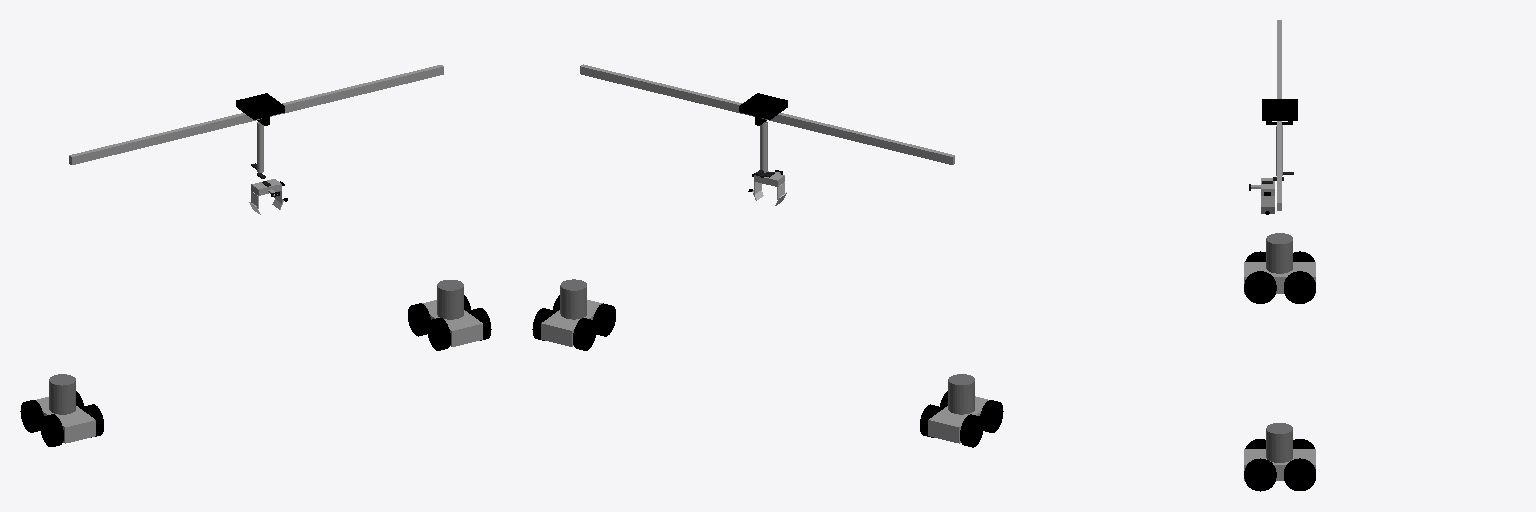
--- Facts derived from the render (not from the file) ---
The picture shows the robot from 3 angles, left to right: view 1: azimuth 30°, elevation 25°; view 2: azimuth 150°, elevation 25°; view 3: azimuth 270°, elevation 25°; orthographic projection.
Model bot with 51 links and 50 joints (1 revolute, 9 continuous, 6 prismatic, 34 fixed), rooted at Untitled.052, posed all joints at 0.
Visible links, largest first — view 1: Untitled.052, Untitled.004, Untitled.009, Untitled.046, Untitled.045, Untitled.026, Untitled.008, Untitled.017, Untitled.007, Untitled.011; view 2: Untitled.052, Untitled.004, Untitled.009, Untitled.046, Untitled.045, Untitled.026, Untitled.007, Untitled.011, Untitled.008, Untitled.017; view 3: Untitled.046, Untitled.045, Untitled.005, Untitled.015, Untitled.006, Untitled.013, Untitled.052, Untitled.026, Untitled.004, Untitled.009.
Boxes of the visible links, box(x1,y1,x2,y2) form: Untitled.052: box(69, 65, 443, 164); Untitled.004: box(36, 397, 95, 443); Untitled.009: box(422, 300, 482, 346); Untitled.046: box(49, 374, 75, 414); Untitled.045: box(437, 280, 463, 319); Untitled.026: box(236, 93, 284, 119); Untitled.008: box(40, 414, 63, 446); Untitled.017: box(427, 318, 450, 350); Untitled.007: box(20, 400, 43, 432); Untitled.011: box(408, 303, 430, 336); Untitled.052: box(580, 64, 954, 164); Untitled.004: box(928, 396, 988, 443); Untitled.009: box(541, 300, 602, 346); Untitled.046: box(948, 374, 974, 414); Untitled.045: box(560, 279, 586, 319); Untitled.026: box(739, 93, 787, 119); Untitled.007: box(960, 414, 983, 447); Untitled.011: box(573, 318, 596, 350); Untitled.008: box(980, 400, 1003, 432); Untitled.017: box(593, 303, 615, 336); Untitled.046: box(1266, 233, 1292, 273); Untitled.045: box(1266, 423, 1292, 462); Untitled.005: box(1244, 271, 1276, 303); Untitled.015: box(1244, 458, 1276, 491); Untitled.006: box(1284, 271, 1315, 303); Untitled.013: box(1284, 458, 1315, 490); Untitled.052: box(1277, 20, 1281, 210); Untitled.026: box(1262, 99, 1297, 120); Untitled.004: box(1244, 262, 1315, 293); Untitled.009: box(1244, 449, 1315, 480).
Bounding box of the posed robot: 2.81 × 0.4022 × 1.74 m (x, y, z).
Meshes: 12 distinct files referenced, 3 mesh visuals loaded (3 binary STL); not drawn: 9 (reference not matched to a file when rendering).

The robot description file, URDF, robot "bot":
<?xml version="1.0"?>
<!-- created with Phobos 1.0.1 "Capricious Choutengan" -->
  <robot name="bot">

    <link name="Untitled">
      <inertial>
        <origin xyz="0 0 0" rpy="0 0 0"/>
        <mass value="0.001"/>
        <inertia ixx="0.001" ixy="0" ixz="0" iyy="0.001" iyz="0" izz="0.001"/>
      </inertial>
    </link>

    <link name="Untitled.001">
      <inertial>
        <origin xyz="0 0 0" rpy="0 0 0"/>
        <mass value="0.001"/>
        <inertia ixx="0.001" ixy="0" ixz="0" iyy="0.001" iyz="0" izz="0.001"/>
      </inertial>
    </link>

    <link name="Untitled.002">
      <inertial>
        <origin xyz="0 0 0" rpy="0 0 0"/>
        <mass value="0.001"/>
        <inertia ixx="0.001" ixy="0" ixz="0" iyy="0.001" iyz="0" izz="0.001"/>
      </inertial>
    </link>

    <link name="Untitled.003">
      <inertial>
        <origin xyz="0 0 0" rpy="0 0 0"/>
        <mass value="0.001"/>
        <inertia ixx="0.001" ixy="0" ixz="0" iyy="0.001" iyz="0" izz="0.001"/>
      </inertial>
    </link>

    <link name="Untitled.004">
      <inertial>
        <origin xyz="0 0 0" rpy="0 0 0"/>
        <mass value="4.0"/>
        <inertia ixx="0.00043" ixy="0" ixz="0" iyy="0.00145" iyz="0" izz="0.06667"/>
      </inertial>
      <visual name="base link.000">
        <origin xyz="0 0 0" rpy="0 0 0"/>
        <geometry>
          <box size="0.4 0.2 0.1"/>
        </geometry>
        <material name="Material.005"/>
      </visual>
      <collision name="base link.000">
        <origin xyz="0 0 0" rpy="0 0 0"/>
        <geometry>
          <box size="0.4 0.2 0.1"/>
        </geometry>
      </collision>
    </link>

    <link name="Untitled.005">
      <inertial>
        <origin xyz="0 0 0" rpy="0 0 0"/>
        <mass value="0.25"/>
        <inertia ixx="7e-05" ixy="0" ixz="0" iyy="0.00013" iyz="0" izz="0.00056"/>
      </inertial>
      <visual name="bl Link.000">
        <origin xyz="-0.0022 0 0" rpy="-3.14159 0 0"/>
        <geometry>
          <cylinder radius="0.09" length="0.05"/>
        </geometry>
        <material name="Material.004"/>
      </visual>
      <collision name="bl Link.000">
        <origin xyz="-0.0022 0 0" rpy="-3.14159 0 0"/>
        <geometry>
          <cylinder radius="0.09" length="0.05"/>
        </geometry>
      </collision>
    </link>

    <link name="Untitled.006">
      <inertial>
        <origin xyz="0 0 0" rpy="0 0 0"/>
        <mass value="0.25"/>
        <inertia ixx="7e-05" ixy="0" ixz="0" iyy="0.00013" iyz="0" izz="0.00056"/>
      </inertial>
      <visual name="bl Link.002.000">
        <origin xyz="-0.0022 0 0" rpy="-3.14159 0 0"/>
        <geometry>
          <cylinder radius="0.09" length="0.05"/>
        </geometry>
        <material name="Material.001"/>
      </visual>
      <collision name="bl Link.002.000">
        <origin xyz="-0.0022 0 0" rpy="-3.14159 0 0"/>
        <geometry>
          <cylinder radius="0.09" length="0.05"/>
        </geometry>
      </collision>
    </link>

    <link name="Untitled.007">
      <inertial>
        <origin xyz="0 0 0" rpy="0 0 0"/>
        <mass value="0.25"/>
        <inertia ixx="7e-05" ixy="0" ixz="0" iyy="0.00013" iyz="0" izz="0.00056"/>
      </inertial>
      <visual name="bl Link.003.000">
        <origin xyz="-0.0022 0 0" rpy="0 0 0"/>
        <geometry>
          <cylinder radius="0.09" length="0.05"/>
        </geometry>
        <material name="Material.002"/>
      </visual>
      <collision name="bl Link.003.000">
        <origin xyz="-0.0022 0 0" rpy="0 0 0"/>
        <geometry>
          <cylinder radius="0.09" length="0.05"/>
        </geometry>
      </collision>
    </link>

    <link name="Untitled.008">
      <inertial>
        <origin xyz="0 0 0" rpy="0 0 0"/>
        <mass value="0.25"/>
        <inertia ixx="7e-05" ixy="0" ixz="0" iyy="0.00013" iyz="0" izz="0.00056"/>
      </inertial>
      <visual name="bl Link.001.000">
        <origin xyz="-0.0022 0 0" rpy="0 0 0"/>
        <geometry>
          <cylinder radius="0.09" length="0.05"/>
        </geometry>
        <material name="Material.003"/>
      </visual>
      <collision name="bl Link.001.000">
        <origin xyz="-0.0022 0 0" rpy="0 0 0"/>
        <geometry>
          <cylinder radius="0.09" length="0.05"/>
        </geometry>
      </collision>
    </link>

    <link name="Untitled.009">
      <inertial>
        <origin xyz="0 0 0" rpy="0 0 0"/>
        <mass value="4.0"/>
        <inertia ixx="0.00043" ixy="0" ixz="0" iyy="0.00145" iyz="0" izz="0.06667"/>
      </inertial>
      <visual name="base link.001">
        <origin xyz="0 0 0" rpy="0 0 0"/>
        <geometry>
          <box size="0.4 0.2 0.1"/>
        </geometry>
        <material name="Material.005"/>
      </visual>
      <collision name="base link.000">
        <origin xyz="0 0 0" rpy="0 0 0"/>
        <geometry>
          <box size="0.4 0.2 0.1"/>
        </geometry>
      </collision>
    </link>

    <link name="Untitled.010">
      <inertial>
        <origin xyz="0 0 0" rpy="0 0 0"/>
        <mass value="0.001"/>
        <inertia ixx="0.001" ixy="0" ixz="0" iyy="0.001" iyz="0" izz="0.001"/>
      </inertial>
    </link>

    <link name="Untitled.011">
      <inertial>
        <origin xyz="0 0 0" rpy="0 0 0"/>
        <mass value="0.25"/>
        <inertia ixx="7e-05" ixy="0" ixz="0" iyy="0.00013" iyz="0" izz="0.00056"/>
      </inertial>
      <visual name="bl Link.003.001">
        <origin xyz="-0.0022 0 0" rpy="0 0 0"/>
        <geometry>
          <cylinder radius="0.09" length="0.05"/>
        </geometry>
        <material name="Material.002"/>
      </visual>
      <collision name="bl Link.003.000">
        <origin xyz="-0.0022 0 0" rpy="0 0 0"/>
        <geometry>
          <cylinder radius="0.09" length="0.05"/>
        </geometry>
      </collision>
    </link>

    <link name="Untitled.012">
      <inertial>
        <origin xyz="0 0 0" rpy="0 0 0"/>
        <mass value="0.001"/>
        <inertia ixx="0.001" ixy="0" ixz="0" iyy="0.001" iyz="0" izz="0.001"/>
      </inertial>
    </link>

    <link name="Untitled.013">
      <inertial>
        <origin xyz="0 0 0" rpy="0 0 0"/>
        <mass value="0.25"/>
        <inertia ixx="7e-05" ixy="0" ixz="0" iyy="0.00013" iyz="0" izz="0.00056"/>
      </inertial>
      <visual name="bl Link.002.001">
        <origin xyz="-0.0022 0 0" rpy="-3.14159 0 0"/>
        <geometry>
          <cylinder radius="0.09" length="0.05"/>
        </geometry>
        <material name="Material.001"/>
      </visual>
      <collision name="bl Link.002.000">
        <origin xyz="-0.0022 0 0" rpy="-3.14159 0 0"/>
        <geometry>
          <cylinder radius="0.09" length="0.05"/>
        </geometry>
      </collision>
    </link>

    <link name="Untitled.014">
      <inertial>
        <origin xyz="0 0 0" rpy="0 0 0"/>
        <mass value="0.001"/>
        <inertia ixx="0.001" ixy="0" ixz="0" iyy="0.001" iyz="0" izz="0.001"/>
      </inertial>
    </link>

    <link name="Untitled.015">
      <inertial>
        <origin xyz="0 0 0" rpy="0 0 0"/>
        <mass value="0.25"/>
        <inertia ixx="7e-05" ixy="0" ixz="0" iyy="0.00013" iyz="0" izz="0.00056"/>
      </inertial>
      <visual name="bl Link.001">
        <origin xyz="-0.0022 0 0" rpy="-3.14159 0 0"/>
        <geometry>
          <cylinder radius="0.09" length="0.05"/>
        </geometry>
        <material name="Material.004"/>
      </visual>
      <collision name="bl Link.000">
        <origin xyz="-0.0022 0 0" rpy="-3.14159 0 0"/>
        <geometry>
          <cylinder radius="0.09" length="0.05"/>
        </geometry>
      </collision>
    </link>

    <link name="Untitled.016">
      <inertial>
        <origin xyz="0 0 0" rpy="0 0 0"/>
        <mass value="0.001"/>
        <inertia ixx="0.001" ixy="0" ixz="0" iyy="0.001" iyz="0" izz="0.001"/>
      </inertial>
    </link>

    <link name="Untitled.017">
      <inertial>
        <origin xyz="0 0 0" rpy="0 0 0"/>
        <mass value="0.25"/>
        <inertia ixx="7e-05" ixy="0" ixz="0" iyy="0.00013" iyz="0" izz="0.00056"/>
      </inertial>
      <visual name="bl Link.001.001">
        <origin xyz="-0.0022 0 0" rpy="0 0 0"/>
        <geometry>
          <cylinder radius="0.09" length="0.05"/>
        </geometry>
        <material name="Material.003"/>
      </visual>
      <collision name="bl Link.001.000">
        <origin xyz="-0.0022 0 0" rpy="0 0 0"/>
        <geometry>
          <cylinder radius="0.09" length="0.05"/>
        </geometry>
      </collision>
    </link>

    <link name="Untitled.018">
      <inertial>
        <origin xyz="0 0 0" rpy="0 0 0"/>
        <mass value="0.02"/>
        <inertia ixx="2e-05" ixy="0" ixz="0" iyy="2e-05" iyz="0" izz="2e-05"/>
      </inertial>
      <visual name="base link.002">
        <origin xyz="0 0 0" rpy="0 0 0"/>
        <geometry>
          <mesh filename="base link.stl" scale="0.74892 0.75 0.33333"/>
        </geometry>
        <material name="Material.035"/>
      </visual>
      <collision name="base link.002.000">
        <origin xyz="0 0 0" rpy="0 0 0"/>
        <geometry>
          <mesh filename="base link.001.stl" scale="1.5043 1.5 1.0"/>
        </geometry>
      </collision>
    </link>

    <link name="Untitled.019">
      <inertial>
        <origin xyz="0 0 0" rpy="0 0 0"/>
        <mass value="0.01"/>
        <inertia ixx="2e-05" ixy="0" ixz="0" iyy="2e-05" iyz="0" izz="2e-05"/>
      </inertial>
      <visual name="inner Link.003">
        <origin xyz="0 0 0" rpy="0 0 0"/>
        <geometry>
          <mesh filename="inner Link.006.stl" scale="0.59176 0.57692 0.33333"/>
        </geometry>
        <material name="Material.036"/>
      </visual>
      <collision name="inner Link.003.000">
        <origin xyz="0 0 0" rpy="0 0 0"/>
        <geometry>
          <mesh filename="inner Link.007.stl" scale="1.0 1.0 1.0"/>
        </geometry>
      </collision>
    </link>

    <link name="Untitled.020">
      <inertial>
        <origin xyz="0 0 0" rpy="0 0 0"/>
        <mass value="0.001"/>
        <inertia ixx="2e-05" ixy="0" ixz="0" iyy="2e-05" iyz="0" izz="2e-05"/>
      </inertial>
      <visual name="Half Sphere 2">
        <origin xyz="0 0 0" rpy="-1.5708 0 0"/>
        <geometry>
          <mesh filename="Half Sphere 2.002.stl" scale="0.00489 0.00488 0.00488"/>
        </geometry>
        <material name="Material.037"/>
      </visual>
      <collision name="Half Sphere 2.000">
        <origin xyz="-0.001 0 -0.00176" rpy="-1.5708 0 0"/>
        <geometry>
          <mesh filename="Half Sphere 2.003.stl" scale="1.0 1.0 1.0"/>
        </geometry>
      </collision>
    </link>

    <link name="Untitled.021">
      <inertial>
        <origin xyz="0 0 0.01" rpy="0 0 0"/>
        <mass value="0.01"/>
        <inertia ixx="2e-05" ixy="0" ixz="0" iyy="2e-05" iyz="0" izz="2e-05"/>
      </inertial>
      <visual name="Cube.003">
        <origin xyz="0 0 0.01" rpy="0 0 0"/>
        <geometry>
          <box size="0.15 0.03 0.01"/>
        </geometry>
        <material name="Material.009"/>
      </visual>
      <collision name="Cube.003">
        <origin xyz="0 0 0.01" rpy="0 0 0"/>
        <geometry>
          <box size="0.15 0.03 0.01"/>
        </geometry>
      </collision>
    </link>

    <link name="Untitled.022">
      <inertial>
        <origin xyz="0 0 0" rpy="0 0 0"/>
        <mass value="0.05"/>
        <inertia ixx="2e-05" ixy="0" ixz="0" iyy="2e-05" iyz="0" izz="2e-05"/>
      </inertial>
      <visual name="Cube.002">
        <origin xyz="0 0 0" rpy="0 0 0"/>
        <geometry>
          <box size="0.03 0.03 0.06"/>
        </geometry>
        <material name="Material.010"/>
      </visual>
      <collision name="Cube.002">
        <origin xyz="0 0 0" rpy="0 0 0"/>
        <geometry>
          <box size="0.03 0.03 0.06"/>
        </geometry>
      </collision>
    </link>

    <link name="Untitled.023">
      <inertial>
        <origin xyz="0 0 0" rpy="0 0 0"/>
        <mass value="0.05"/>
        <inertia ixx="2e-05" ixy="0" ixz="0" iyy="2e-05" iyz="0" izz="2e-05"/>
      </inertial>
      <visual name="Cube.001">
        <origin xyz="0 0 0" rpy="0 0 0"/>
        <geometry>
          <box size="0.03 0.03 0.06"/>
        </geometry>
        <material name="Material.010"/>
      </visual>
      <collision name="Cube.001">
        <origin xyz="0 0 0" rpy="0 0 0"/>
        <geometry>
          <box size="0.03 0.03 0.06"/>
        </geometry>
      </collision>
    </link>

    <link name="Untitled.024">
      <inertial>
        <origin xyz="0 0 0" rpy="0 0 0"/>
        <mass value="0.001"/>
        <inertia ixx="0.001" ixy="0" ixz="0" iyy="0.001" iyz="0" izz="0.001"/>
      </inertial>
    </link>

    <link name="Untitled.025">
      <inertial>
        <origin xyz="0 0 0" rpy="0 0 0"/>
        <mass value="0.001"/>
        <inertia ixx="0.001" ixy="0" ixz="0" iyy="0.001" iyz="0" izz="0.001"/>
      </inertial>
    </link>

    <link name="Untitled.026">
      <inertial>
        <origin xyz="0 0 0" rpy="0 0 0"/>
        <mass value="0.5"/>
        <inertia ixx="2e-05" ixy="0" ixz="0" iyy="2e-05" iyz="0" izz="2e-05"/>
      </inertial>
      <visual name="Cube">
        <origin xyz="0 0 0" rpy="-1.5708 0 0"/>
        <geometry>
          <box size="0.2 0.2 0.04"/>
        </geometry>
        <material name="Material.008"/>
      </visual>
      <collision name="Cube">
        <origin xyz="0 0 0" rpy="-1.5708 0 0"/>
        <geometry>
          <box size="0.2 0.2 0.04"/>
        </geometry>
      </collision>
    </link>

    <link name="Untitled.027">
      <inertial>
        <origin xyz="0 0 0" rpy="0 0 0"/>
        <mass value="0.5"/>
        <inertia ixx="0.00286" ixy="0" ixz="0" iyy="0.00286" iyz="0" izz="0.0001"/>
      </inertial>
      <visual name="base link">
        <origin xyz="0 0 0" rpy="0 0 0"/>
        <geometry>
          <mesh filename="base link.006.stl" scale="1.0 1.0 1.0"/>
        </geometry>
        <material name="Material.011"/>
      </visual>
      <collision name="base link.000.001.002">
        <origin xyz="0 0.00061 0" rpy="0 0 0"/>
        <geometry>
          <mesh filename="base link.009.stl" scale="1.0 1.0 1.0"/>
        </geometry>
      </collision>
    </link>

    <link name="Untitled.028">
      <inertial>
        <origin xyz="0 0 0.02952" rpy="0 0 0"/>
        <mass value="0.5"/>
        <inertia ixx="0.00377" ixy="0" ixz="0" iyy="0.00377" iyz="0" izz="4e-05"/>
      </inertial>
      <visual name="inner Link">
        <origin xyz="0 0 0.02952" rpy="0 0 0"/>
        <geometry>
          <mesh filename="inner Link.stl" scale="1.0 1.0 1.0"/>
        </geometry>
        <material name="Material.012"/>
      </visual>
      <collision name="inner Link.000">
        <origin xyz="0 0 0.02952" rpy="0 0 0"/>
        <geometry>
          <mesh filename="inner Link.003.stl" scale="1.0 1.0 1.0"/>
        </geometry>
      </collision>
    </link>

    <link name="Untitled.029">
      <inertial>
        <origin xyz="0 0 0" rpy="0 0 0"/>
        <mass value="0.1"/>
        <inertia ixx="2e-05" ixy="0" ixz="0" iyy="2e-05" iyz="0" izz="2e-05"/>
      </inertial>
      <visual name="Cube.004">
        <origin xyz="0 0 0" rpy="0 0 0"/>
        <geometry>
          <box size="0.06 0.026 0.01"/>
        </geometry>
        <material name="Material.013"/>
      </visual>
      <collision name="Cube.004">
        <origin xyz="0 0 0" rpy="0 0 0"/>
        <geometry>
          <box size="0.06 0.026 0.01"/>
        </geometry>
      </collision>
    </link>

    <link name="Untitled.030">
      <inertial>
        <origin xyz="0 0 0" rpy="0 0 0"/>
        <mass value="0.5"/>
        <inertia ixx="0.00286" ixy="0" ixz="0" iyy="0.00286" iyz="0" izz="0.0001"/>
      </inertial>
      <visual name="base link.003">
        <origin xyz="0 0 0" rpy="0 0 0"/>
        <geometry>
          <mesh filename="base link.007.stl" scale="1.0 1.0 1.0"/>
        </geometry>
        <material name="Material.014"/>
      </visual>
      <collision name="base link.003.000">
        <origin xyz="0 0 0" rpy="0 0 0"/>
        <geometry>
          <mesh filename="base link.010.stl" scale="1.0 1.0 1.0"/>
        </geometry>
      </collision>
    </link>

    <link name="Untitled.031">
      <inertial>
        <origin xyz="0 0 0" rpy="0 0 0"/>
        <mass value="0.5"/>
        <inertia ixx="0.00377" ixy="0" ixz="0" iyy="0.00377" iyz="0" izz="4e-05"/>
      </inertial>
      <visual name="inner Link.001">
        <origin xyz="0 0 0" rpy="0 0 0"/>
        <geometry>
          <mesh filename="inner Link.001.stl" scale="1.0 1.0 1.0"/>
        </geometry>
        <material name="Material.015"/>
      </visual>
      <collision name="inner Link.001.000">
        <origin xyz="0 0 0" rpy="0 0 0"/>
        <geometry>
          <mesh filename="inner Link.004.stl" scale="1.0 1.0 1.0"/>
        </geometry>
      </collision>
    </link>

    <link name="Untitled.032">
      <inertial>
        <origin xyz="0 0 0" rpy="0 0 0"/>
        <mass value="0.1"/>
        <inertia ixx="2e-05" ixy="0" ixz="0" iyy="2e-05" iyz="0" izz="2e-05"/>
      </inertial>
      <visual name="Cube.005">
        <origin xyz="0 0 0" rpy="0 0 0"/>
        <geometry>
          <box size="0.06 0.026 0.01"/>
        </geometry>
        <material name="Material.016"/>
      </visual>
      <collision name="Cube.005">
        <origin xyz="0 0 0" rpy="0 0 0"/>
        <geometry>
          <box size="0.06 0.026 0.01"/>
        </geometry>
      </collision>
    </link>

    <link name="Untitled.033">
      <inertial>
        <origin xyz="0 0 0" rpy="0 0 0"/>
        <mass value="0.5"/>
        <inertia ixx="0.00286" ixy="0" ixz="0" iyy="0.00286" iyz="0" izz="0.0001"/>
      </inertial>
      <visual name="base link.004">
        <origin xyz="0 0 0" rpy="0 0 0"/>
        <geometry>
          <mesh filename="base link.008.stl" scale="1.0 1.0 1.0"/>
        </geometry>
        <material name="Material.017"/>
      </visual>
      <collision name="base link.004.000">
        <origin xyz="0 0 0" rpy="0 0 0"/>
        <geometry>
          <mesh filename="base link.011.stl" scale="1.0 1.0 1.0"/>
        </geometry>
      </collision>
    </link>

    <link name="Untitled.034">
      <inertial>
        <origin xyz="0 0 0" rpy="0 0 0"/>
        <mass value="0.5"/>
        <inertia ixx="0.00377" ixy="0" ixz="0" iyy="0.00377" iyz="0" izz="4e-05"/>
      </inertial>
      <visual name="inner Link.002">
        <origin xyz="0 0 0" rpy="0 0 0"/>
        <geometry>
          <mesh filename="inner Link.002.stl" scale="1.0 1.0 1.0"/>
        </geometry>
        <material name="Material.018"/>
      </visual>
      <collision name="inner Link.002.000">
        <origin xyz="0 0 0" rpy="0 0 0"/>
        <geometry>
          <mesh filename="inner Link.005.stl" scale="1.0 1.0 1.0"/>
        </geometry>
      </collision>
    </link>

    <link name="Untitled.035">
      <inertial>
        <origin xyz="0 0 0" rpy="0 0 0"/>
        <mass value="0.1"/>
        <inertia ixx="2e-05" ixy="0" ixz="0" iyy="2e-05" iyz="0" izz="2e-05"/>
      </inertial>
      <visual name="Cube.006">
        <origin xyz="0 0 0" rpy="0 0 0"/>
        <geometry>
          <box size="0.06 0.026 0.01"/>
        </geometry>
        <material name="Material.019"/>
      </visual>
      <collision name="Cube.006">
        <origin xyz="0 0 0" rpy="0 0 0"/>
        <geometry>
          <box size="0.06 0.026 0.01"/>
        </geometry>
      </collision>
    </link>

    <link name="Untitled.036">
      <inertial>
        <origin xyz="0 0 0" rpy="0 0 0"/>
        <mass value="0.3"/>
        <inertia ixx="2e-05" ixy="0" ixz="0" iyy="2e-05" iyz="0" izz="2e-05"/>
      </inertial>
      <visual name="Cube.007">
        <origin xyz="0 0 0" rpy="0 0 0"/>
        <geometry>
          <box size="0.08 0.15 0.04"/>
        </geometry>
        <material name="Material.020"/>
      </visual>
      <collision name="Cube.007">
        <origin xyz="0 0 0" rpy="0 0 0"/>
        <geometry>
          <box size="0.08 0.145 0.04"/>
        </geometry>
      </collision>
    </link>

    <link name="Untitled.037">
      <inertial>
        <origin xyz="0 0 0" rpy="0 0 0"/>
        <mass value="0.01"/>
        <inertia ixx="2e-05" ixy="0" ixz="0" iyy="2e-05" iyz="0" izz="2e-05"/>
      </inertial>
      <visual name="Cube.009">
        <origin xyz="0 0 0" rpy="0 0 0"/>
        <geometry>
          <box size="0.08 0.005 0.06"/>
        </geometry>
        <material name="Material.021"/>
      </visual>
      <collision name="Cube.009">
        <origin xyz="0 0 0" rpy="0 0 0"/>
        <geometry>
          <box size="0.08 0.005 0.06"/>
        </geometry>
      </collision>
    </link>

    <link name="Untitled.038">
      <inertial>
        <origin xyz="0 0 0" rpy="0 0 0"/>
        <mass value="0.05"/>
        <inertia ixx="2e-05" ixy="0" ixz="0" iyy="2e-05" iyz="0" izz="2e-05"/>
      </inertial>
      <visual name="Cube.008">
        <origin xyz="0 0 0" rpy="-1.5708 0 0"/>
        <geometry>
          <box size="0.08 0.005 0.08"/>
        </geometry>
        <material name="Material.022"/>
      </visual>
      <collision name="Cube.008">
        <origin xyz="0 0 0" rpy="-1.5708 0 0"/>
        <geometry>
          <box size="0.08 0.005 0.08"/>
        </geometry>
      </collision>
    </link>

    <link name="Untitled.039">
      <inertial>
        <origin xyz="0 0 0" rpy="0 0 0"/>
        <mass value="0.01"/>
        <inertia ixx="2e-05" ixy="0" ixz="0" iyy="2e-05" iyz="0" izz="2e-05"/>
      </inertial>
      <visual name="Cube.011">
        <origin xyz="0 0 0" rpy="0 0 0"/>
        <geometry>
          <box size="0.08 0.005 0.06"/>
        </geometry>
        <material name="Material.024"/>
      </visual>
      <collision name="Cube.011">
        <origin xyz="0 0 0" rpy="0 0 0"/>
        <geometry>
          <box size="0.08 0.005 0.06"/>
        </geometry>
      </collision>
    </link>

    <link name="Untitled.040">
      <inertial>
        <origin xyz="0 0 0" rpy="0 0 0"/>
        <mass value="0.05"/>
        <inertia ixx="2e-05" ixy="0" ixz="0" iyy="2e-05" iyz="0" izz="2e-05"/>
      </inertial>
      <visual name="Cube.010">
        <origin xyz="0 0 0" rpy="1.5708 0 0"/>
        <geometry>
          <box size="0.08 0.005 0.08"/>
        </geometry>
        <material name="Material.023"/>
      </visual>
      <collision name="Cube.010">
        <origin xyz="0 0 0" rpy="1.5708 0 0"/>
        <geometry>
          <box size="0.08 0.005 0.08"/>
        </geometry>
      </collision>
    </link>

    <link name="Untitled.041">
      <inertial>
        <origin xyz="0 0 0" rpy="0 0 0"/>
        <mass value="0.005"/>
        <inertia ixx="2e-05" ixy="0" ixz="0" iyy="2e-05" iyz="0" izz="2e-05"/>
      </inertial>
      <visual name="Cube.012.000">
        <origin xyz="0 0 0" rpy="0 0 0"/>
        <geometry>
          <box size="0.06 0.026 0.01"/>
        </geometry>
        <material name="Material.025"/>
      </visual>
      <collision name="Cube.012.000">
        <origin xyz="0 0 0" rpy="0 0 0"/>
        <geometry>
          <box size="0.06 0.026 0.01"/>
        </geometry>
      </collision>
    </link>

    <link name="Untitled.042">
      <inertial>
        <origin xyz="0 0 0.01" rpy="0 0 0"/>
        <mass value="0.005"/>
        <inertia ixx="2e-05" ixy="0" ixz="0" iyy="2e-05" iyz="0" izz="2e-05"/>
      </inertial>
      <visual name="Cube.013">
        <origin xyz="0 0 0.01" rpy="-1.5708 0 -1.5708"/>
        <geometry>
          <box size="0.02 0.05 0.01"/>
        </geometry>
        <material name="Material.026"/>
      </visual>
      <collision name="Cube.013">
        <origin xyz="0 0 0.01" rpy="-1.5708 0 -1.5708"/>
        <geometry>
          <box size="0.02 0.05 0.01"/>
        </geometry>
      </collision>
    </link>

    <link name="Untitled.043">
      <inertial>
        <origin xyz="0 0 0" rpy="0 0 0"/>
        <mass value="0.001"/>
        <inertia ixx="0.001" ixy="0" ixz="0" iyy="0.001" iyz="0" izz="0.001"/>
      </inertial>
      <visual name="Cylinder.001">
        <origin xyz="0 0 0" rpy="0 0 0"/>
        <geometry>
          <cylinder radius="0.005" length="0.01"/>
        </geometry>
        <material name="Material.027"/>
      </visual>
    </link>

    <link name="Untitled.044">
      <inertial>
        <origin xyz="0 0 0" rpy="0 0 0"/>
        <mass value="0.001"/>
        <inertia ixx="0.001" ixy="0" ixz="0" iyy="0.001" iyz="0" izz="0.001"/>
      </inertial>
      <visual name="Cylinder">
        <origin xyz="0 0 0" rpy="0 0 0"/>
        <geometry>
          <cylinder radius="0.005" length="0.01"/>
        </geometry>
        <material name="Material.027"/>
      </visual>
    </link>

    <link name="Untitled.045">
      <inertial>
        <origin xyz="0 0 0" rpy="0 0 0"/>
        <mass value="1.0"/>
        <inertia ixx="2e-05" ixy="0" ixz="0" iyy="1e-05" iyz="0" izz="3e-05"/>
      </inertial>
      <visual name="Cylinder.003">
        <origin xyz="0 0 0" rpy="0 0 0"/>
        <geometry>
          <cylinder radius="0.075" length="0.18"/>
        </geometry>
        <material name="Material.028"/>
      </visual>
      <collision name="Cylinder.003">
        <origin xyz="0 0 0" rpy="0 0 0"/>
        <geometry>
          <cylinder radius="0.075" length="0.18"/>
        </geometry>
      </collision>
    </link>

    <link name="Untitled.046">
      <inertial>
        <origin xyz="0 0 0" rpy="0 0 0"/>
        <mass value="1.0"/>
        <inertia ixx="2e-05" ixy="0" ixz="0" iyy="2e-05" iyz="0" izz="2e-05"/>
      </inertial>
      <visual name="Cylinder.002">
        <origin xyz="0 0 0" rpy="0 0 0"/>
        <geometry>
          <cylinder radius="0.075" length="0.18"/>
        </geometry>
        <material name="Material.028"/>
      </visual>
      <collision name="Cylinder.002.000">
        <origin xyz="0 0 0" rpy="0 0 0"/>
        <geometry>
          <mesh filename="Cylinder.020.stl" scale="1.0 1.0 1.0"/>
        </geometry>
      </collision>
    </link>

    <link name="Untitled.047">
      <inertial>
        <origin xyz="0 0 0" rpy="0 0 0"/>
        <mass value="0.01"/>
        <inertia ixx="2e-05" ixy="0" ixz="0" iyy="2e-05" iyz="0" izz="2e-05"/>
      </inertial>
      <visual name="Cube.012">
        <origin xyz="0 -0.01 0" rpy="0 0 0"/>
        <geometry>
          <box size="0.04 0.03 0.01"/>
        </geometry>
        <material name="Material.032"/>
      </visual>
      <collision name="Cube.012">
        <origin xyz="0 -0.01 0" rpy="0 0 0"/>
        <geometry>
          <box size="0.04 0.03 0.01"/>
        </geometry>
      </collision>
    </link>

    <link name="Untitled.050">
      <inertial>
        <origin xyz="0 0 -0.74" rpy="0 0 0"/>
        <mass value="2.0"/>
        <inertia ixx="0.54185" ixy="0" ixz="0" iyy="0.54185" iyz="0" izz="0.00176"/>
      </inertial>
      <visual name="vertical rod.001">
        <origin xyz="0 0 -0.74" rpy="1.5708 0 0"/>
        <geometry>
          <mesh filename="vertical rod.001.stl" scale="1.0 1.0 1.0"/>
        </geometry>
        <material name="Material.029"/>
      </visual>
      <collision name="vertical rod.001.000">
        <origin xyz="0 0 -0.74" rpy="1.5708 0 0"/>
        <geometry>
          <mesh filename="vertical rod.002.stl" scale="1.0 1.0 1.0"/>
        </geometry>
      </collision>
    </link>

    <link name="Untitled.051">
      <inertial>
        <origin xyz="0 0 -0.74" rpy="0 0 0"/>
        <mass value="2.0"/>
        <inertia ixx="0.54185" ixy="0" ixz="0" iyy="0.54185" iyz="0" izz="0.00176"/>
      </inertial>
      <visual name="vertical rod">
        <origin xyz="0 0 -0.74" rpy="1.5708 0 0"/>
        <geometry>
          <mesh filename="vertical rod.stl" scale="1.0 1.0 1.0"/>
        </geometry>
        <material name="Material.031"/>
      </visual>
      <collision name="vertical rod.000">
        <origin xyz="0 0 -0.74" rpy="1.5708 0 0"/>
        <geometry>
          <mesh filename="vertical rod.003.stl" scale="1.0 1.0 1.0"/>
        </geometry>
      </collision>
    </link>

    <link name="Untitled.052">
      <inertial>
        <origin xyz="0 0 0" rpy="0 0 0"/>
        <mass value="2.0"/>
        <inertia ixx="1.00174" ixy="0" ixz="0" iyy="0.00057" iyz="0" izz="0.92057"/>
      </inertial>
      <visual name="horizantal rod">
        <origin xyz="0 0 0" rpy="0 0 0"/>
        <geometry>
          <mesh filename="horizantal rod.stl" scale="1.02128 1.0 1.0"/>
        </geometry>
        <material name="Material.030"/>
      </visual>
      <collision name="horizantal rod.000">
        <origin xyz="0 0 0" rpy="0 0 0"/>
        <geometry>
          <mesh filename="horizantal rod.001.stl" scale="1.0 1.0 1.0"/>
        </geometry>
      </collision>
    </link>

    <joint name="Untitled" type="fixed">
      <origin xyz="-0.11 0.06 0" rpy="1.5708 0 0"/>
      <parent link="Untitled.004"/>
      <child link="Untitled"/>
    </joint>

    <joint name="Untitled.001" type="fixed">
      <origin xyz="-0.11 -0.06 0" rpy="-1.5708 0 0"/>
      <parent link="Untitled.004"/>
      <child link="Untitled.001"/>
    </joint>

    <joint name="Untitled.002" type="fixed">
      <origin xyz="0.11 0.06 0" rpy="1.5708 0 0"/>
      <parent link="Untitled.004"/>
      <child link="Untitled.002"/>
    </joint>

    <joint name="Untitled.003" type="fixed">
      <origin xyz="0.11 -0.06 0" rpy="-1.5708 0 0"/>
      <parent link="Untitled.004"/>
      <child link="Untitled.003"/>
    </joint>

    <joint name="Untitled.004" type="fixed">
      <origin xyz="0 0 -1.575" rpy="0 0 0"/>
      <parent link="Untitled.051"/>
      <child link="Untitled.004"/>
    </joint>

    <joint name="Untitled.005" type="continuous">
      <origin xyz="0 0 -0.07" rpy="3.14159 0 0"/>
      <parent link="Untitled.002"/>
      <child link="Untitled.005"/>
      <axis xyz="0 0 1.0"/>
      <limit effort="0.1" velocity="1.5"/>
    </joint>

    <joint name="Untitled.006" type="continuous">
      <origin xyz="0 0 -0.07" rpy="3.14159 0 0"/>
      <parent link="Untitled"/>
      <child link="Untitled.006"/>
      <axis xyz="0 0 1.0"/>
      <limit effort="0.1" velocity="1.5"/>
    </joint>

    <joint name="Untitled.007" type="continuous">
      <origin xyz="0 0 -0.07" rpy="-3.14159 0 0"/>
      <parent link="Untitled.001"/>
      <child link="Untitled.007"/>
      <axis xyz="0 0 1.0"/>
      <limit effort="0.1" velocity="1.5"/>
    </joint>

    <joint name="Untitled.008" type="continuous">
      <origin xyz="0 0 -0.07" rpy="-3.14159 0 0"/>
      <parent link="Untitled.003"/>
      <child link="Untitled.008"/>
      <axis xyz="0 0 1.0"/>
      <limit effort="0.1" velocity="1.5"/>
    </joint>

    <joint name="Untitled.009" type="fixed">
      <origin xyz="0 -0.005 -1.5626" rpy="0 0 0"/>
      <parent link="Untitled.050"/>
      <child link="Untitled.009"/>
    </joint>

    <joint name="Untitled.010" type="fixed">
      <origin xyz="-0.11 -0.06 0" rpy="-1.5708 0 0"/>
      <parent link="Untitled.009"/>
      <child link="Untitled.010"/>
    </joint>

    <joint name="Untitled.011" type="continuous">
      <origin xyz="0 0 -0.07" rpy="-3.14159 0 0"/>
      <parent link="Untitled.010"/>
      <child link="Untitled.011"/>
      <axis xyz="0 0 1.0"/>
      <limit effort="0.1" velocity="1.5"/>
    </joint>

    <joint name="Untitled.012" type="fixed">
      <origin xyz="-0.11 0.06 0" rpy="1.5708 0 0"/>
      <parent link="Untitled.009"/>
      <child link="Untitled.012"/>
    </joint>

    <joint name="Untitled.013" type="continuous">
      <origin xyz="0 0 -0.07" rpy="3.14159 0 0"/>
      <parent link="Untitled.012"/>
      <child link="Untitled.013"/>
      <axis xyz="0 0 1.0"/>
      <limit effort="0.1" velocity="1.5"/>
    </joint>

    <joint name="Untitled.014" type="fixed">
      <origin xyz="0.11 0.06 0" rpy="1.5708 0 0"/>
      <parent link="Untitled.009"/>
      <child link="Untitled.014"/>
    </joint>

    <joint name="Untitled.015" type="continuous">
      <origin xyz="0 0 -0.07" rpy="3.14159 0 0"/>
      <parent link="Untitled.014"/>
      <child link="Untitled.015"/>
      <axis xyz="0 0 1.0"/>
      <limit effort="0.1" velocity="1.5"/>
    </joint>

    <joint name="Untitled.016" type="fixed">
      <origin xyz="0.11 -0.06 0" rpy="-1.5708 0 0"/>
      <parent link="Untitled.009"/>
      <child link="Untitled.016"/>
    </joint>

    <joint name="Untitled.017" type="continuous">
      <origin xyz="0 0 -0.07" rpy="-3.14159 0 0"/>
      <parent link="Untitled.016"/>
      <child link="Untitled.017"/>
      <axis xyz="0 0 1.0"/>
      <limit effort="0.1" velocity="1.5"/>
    </joint>

    <joint name="Untitled.018" type="fixed">
      <origin xyz="0 0.02 -0.04" rpy="0 0 0"/>
      <parent link="Untitled.047"/>
      <child link="Untitled.018"/>
    </joint>

    <joint name="Untitled.019" type="prismatic">
      <origin xyz="0 0 -0.00888" rpy="0 0 0"/>
      <parent link="Untitled.018"/>
      <child link="Untitled.019"/>
      <axis xyz="0 0 1.0"/>
      <limit lower="-1.29" upper="1.29" effort="0.01" velocity="0.1"/>
    </joint>

    <joint name="Untitled.020" type="fixed">
      <origin xyz="0 -0.00117 -0.05884" rpy="0 0 0"/>
      <parent link="Untitled.019"/>
      <child link="Untitled.020"/>
    </joint>

    <joint name="Untitled.021" type="fixed">
      <origin xyz="0.06656 -0.00819 -0.00718" rpy="0 0 0"/>
      <parent link="Untitled.024"/>
      <child link="Untitled.021"/>
    </joint>

    <joint name="Untitled.022" type="fixed">
      <origin xyz="-0.06 -0.05371 0" rpy="-1.5708 0 0"/>
      <parent link="Untitled.026"/>
      <child link="Untitled.022"/>
    </joint>

    <joint name="Untitled.023" type="fixed">
      <origin xyz="0.06 -0.05371 0" rpy="-1.5708 0 0"/>
      <parent link="Untitled.026"/>
      <child link="Untitled.023"/>
    </joint>

    <joint name="Untitled.024" type="fixed">
      <origin xyz="-0.00656 0.00819 -0.03142" rpy="0 0 0"/>
      <parent link="Untitled.022"/>
      <child link="Untitled.024"/>
    </joint>

    <joint name="Untitled.025" type="fixed">
      <origin xyz="0.00237 -0.00899 -0.03609" rpy="0 0 0"/>
      <parent link="Untitled.023"/>
      <child link="Untitled.025"/>
    </joint>

    <joint name="Untitled.026" type="prismatic">
      <origin xyz="0.025 0 0.04555" rpy="1.5708 0 -1.5708"/>
      <parent link="Untitled.052"/>
      <child link="Untitled.026"/>
      <axis xyz="0 0 1.0"/>
      <limit lower="-1.2931" upper="1.29" effort="0.1" velocity="1.0"/>
    </joint>

    <joint name="Untitled.027" type="fixed">
      <origin xyz="0.00656 -0.00819 -0.15126" rpy="0 0 0"/>
      <parent link="Untitled.024"/>
      <child link="Untitled.027"/>
    </joint>

    <joint name="Untitled.028" type="prismatic">
      <origin xyz="0 0 -0.02468" rpy="0 0 0"/>
      <parent link="Untitled.027"/>
      <child link="Untitled.028"/>
      <axis xyz="0 0 1.0"/>
      <limit lower="-1.2931" upper="1.29" effort="0.1" velocity="1.0"/>
    </joint>

    <joint name="Untitled.029" type="fixed">
      <origin xyz="0.01 0 -0.12848" rpy="0 0 0"/>
      <parent link="Untitled.028"/>
      <child link="Untitled.029"/>
    </joint>

    <joint name="Untitled.030" type="fixed">
      <origin xyz="0.05 0 0.14075" rpy="0 0 0"/>
      <parent link="Untitled.029"/>
      <child link="Untitled.030"/>
    </joint>

    <joint name="Untitled.031" type="prismatic">
      <origin xyz="0 0 -0.02247" rpy="0 0 0"/>
      <parent link="Untitled.030"/>
      <child link="Untitled.031"/>
      <axis xyz="0 0 1.0"/>
      <limit lower="-1.2931" upper="1.29" effort="0.1" velocity="1.0"/>
    </joint>

    <joint name="Untitled.032" type="fixed">
      <origin xyz="0.00738 0.0014 -0.1528" rpy="0 0 0"/>
      <parent link="Untitled.031"/>
      <child link="Untitled.032"/>
    </joint>

    <joint name="Untitled.033" type="fixed">
      <origin xyz="0.05262 -0.0014 0.13993" rpy="0 0 0"/>
      <parent link="Untitled.032"/>
      <child link="Untitled.033"/>
    </joint>

    <joint name="Untitled.034" type="prismatic">
      <origin xyz="0 0 -0.01" rpy="0 0 0"/>
      <parent link="Untitled.033"/>
      <child link="Untitled.034"/>
      <axis xyz="0 0 1.0"/>
      <limit lower="-1.2931" upper="1.29" effort="0.1" velocity="1.0"/>
    </joint>

    <joint name="Untitled.035" type="fixed">
      <origin xyz="0.00989 -0.00047 -0.15397" rpy="0 0 0"/>
      <parent link="Untitled.034"/>
      <child link="Untitled.035"/>
    </joint>

    <joint name="Untitled.036" type="continuous">
      <origin xyz="-0.00332 0.00214 -0.02292" rpy="0 0 0"/>
      <parent link="Untitled.035"/>
      <child link="Untitled.036"/>
      <axis xyz="0 0 1.0"/>
      <limit effort="0.1" velocity="1.0"/>
    </joint>

    <joint name="Untitled.037" type="fixed">
      <origin xyz="0 -0.05 0" rpy="-1.13446 0 0"/>
      <parent link="Untitled.038"/>
      <child link="Untitled.037"/>
    </joint>

    <joint name="Untitled.038" type="fixed">
      <origin xyz="0 -0.075 -0.06044" rpy="1.5708 0 0"/>
      <parent link="Untitled.036"/>
      <child link="Untitled.038"/>
    </joint>

    <joint name="Untitled.039" type="fixed">
      <origin xyz="0 0.05 0" rpy="1.13446 0 0"/>
      <parent link="Untitled.040"/>
      <child link="Untitled.039"/>
    </joint>

    <joint name="Untitled.040" type="prismatic">
      <origin xyz="0 0.075 -0.06044" rpy="-1.5708 0 0"/>
      <parent link="Untitled.036"/>
      <child link="Untitled.040"/>
      <axis xyz="0 0 1.0"/>
      <limit lower="-1.2931" upper="1.29" effort="0.1" velocity="1.0"/>
    </joint>

    <joint name="Untitled.041" type="fixed">
      <origin xyz="0.07032 -0.00214 -0.00337" rpy="0 0 0"/>
      <parent link="Untitled.036"/>
      <child link="Untitled.041"/>
    </joint>

    <joint name="Untitled.042" type="revolute">
      <origin xyz="0.03 0.01 0.00027" rpy="1.5708 0 0"/>
      <parent link="Untitled.041"/>
      <child link="Untitled.042"/>
      <axis xyz="0 0 1.0"/>
      <limit lower="-1.57" upper="0" effort="0.01" velocity="0.1"/>
    </joint>

    <joint name="Untitled.043" type="fixed">
      <origin xyz="0.002 0 0.02" rpy="-1.5708 0 -1.5708"/>
      <parent link="Untitled.042"/>
      <child link="Untitled.043"/>
    </joint>

    <joint name="Untitled.044" type="fixed">
      <origin xyz="0.002 0 0" rpy="-1.5708 0 -1.5708"/>
      <parent link="Untitled.042"/>
      <child link="Untitled.044"/>
    </joint>

    <joint name="Untitled.045" type="fixed">
      <origin xyz="0 0.005 0.1376" rpy="0 0 0"/>
      <parent link="Untitled.009"/>
      <child link="Untitled.045"/>
    </joint>

    <joint name="Untitled.046" type="fixed">
      <origin xyz="0 0 0.15" rpy="0 0 0"/>
      <parent link="Untitled.004"/>
      <child link="Untitled.046"/>
    </joint>

    <joint name="Untitled.047" type="fixed">
      <origin xyz="0 0.1 0" rpy="0 0 0"/>
      <parent link="Untitled.036"/>
      <child link="Untitled.047"/>
    </joint>

    <joint name="Untitled.050" type="fixed">
      <origin xyz="1.25 0 -0.005" rpy="0 0 -1.5708"/>
      <parent link="Untitled.052"/>
      <child link="Untitled.050"/>
    </joint>

    <joint name="Untitled.051" type="fixed">
      <origin xyz="-1.25 0 -0.005" rpy="0 0 -1.5708"/>
      <parent link="Untitled.052"/>
      <child link="Untitled.051"/>
    </joint>

    <material name="Material.001">
      <color rgba="0 0 0 1.0"/>
    </material>

    <material name="Material.002">
      <color rgba="0 0 0 1.0"/>
    </material>

    <material name="Material.003">
      <color rgba="0 0 0 1.0"/>
    </material>

    <material name="Material.004">
      <color rgba="0 0 0 1.0"/>
    </material>

    <material name="Material.005">
      <color rgba="0.64 0.64 0.64 1.0"/>
    </material>

    <material name="Material.008">
      <color rgba="0 0 0 1.0"/>
    </material>

    <material name="Material.009">
      <color rgba="0 0 0 1.0"/>
    </material>

    <material name="Material.010">
      <color rgba="0 0 0 1.0"/>
    </material>

    <material name="Material.011">
      <color rgba="0.64 0.64 0.64 1.0"/>
    </material>

    <material name="Material.012">
      <color rgba="0.16 0.16 0.16 1.0"/>
    </material>

    <material name="Material.013">
      <color rgba="0.16 0.16 0.16 1.0"/>
    </material>

    <material name="Material.014">
      <color rgba="0.64 0.64 0.64 1.0"/>
    </material>

    <material name="Material.015">
      <color rgba="0.16 0.16 0.16 1.0"/>
    </material>

    <material name="Material.016">
      <color rgba="0.16 0.16 0.16 1.0"/>
    </material>

    <material name="Material.017">
      <color rgba="0.64 0.64 0.64 1.0"/>
    </material>

    <material name="Material.018">
      <color rgba="0.16 0.16 0.16 1.0"/>
    </material>

    <material name="Material.019">
      <color rgba="0.16 0.16 0.16 1.0"/>
    </material>

    <material name="Material.020">
      <color rgba="0.64 0.64 0.64 1.0"/>
    </material>

    <material name="Material.021">
      <color rgba="0.76 0.76 0.76 1.0"/>
    </material>

    <material name="Material.022">
      <color rgba="0.76 0.76 0.76 1.0"/>
    </material>

    <material name="Material.023">
      <color rgba="0.76 0.76 0.76 1.0"/>
    </material>

    <material name="Material.024">
      <color rgba="0.76 0.76 0.76 1.0"/>
    </material>

    <material name="Material.025">
      <color rgba="0.64 0.64 0.64 1.0"/>
    </material>

    <material name="Material.026">
      <color rgba="0.09 0.09 0.09 1.0"/>
    </material>

    <material name="Material.027">
      <color rgba="0.76 0.76 0.76 1.0"/>
    </material>

    <material name="Material.028">
      <color rgba="0.48 0.48 0.48 1.0"/>
    </material>

    <material name="Material.029">
      <color rgba="0.64 0.64 0.64 1.0"/>
    </material>

    <material name="Material.030">
      <color rgba="0.64 0.64 0.64 1.0"/>
    </material>

    <material name="Material.031">
      <color rgba="0.64 0.64 0.64 1.0"/>
    </material>

    <material name="Material.032">
      <color rgba="0 0 0 1.0"/>
    </material>

    <material name="Material.035">
      <color rgba="0.64 0.64 0.64 1.0"/>
    </material>

    <material name="Material.036">
      <color rgba="0.4 0.4 0.4 1.0"/>
    </material>

    <material name="Material.037">
      <color rgba="0 0 0 1.0"/>
    </material>

  </robot>
